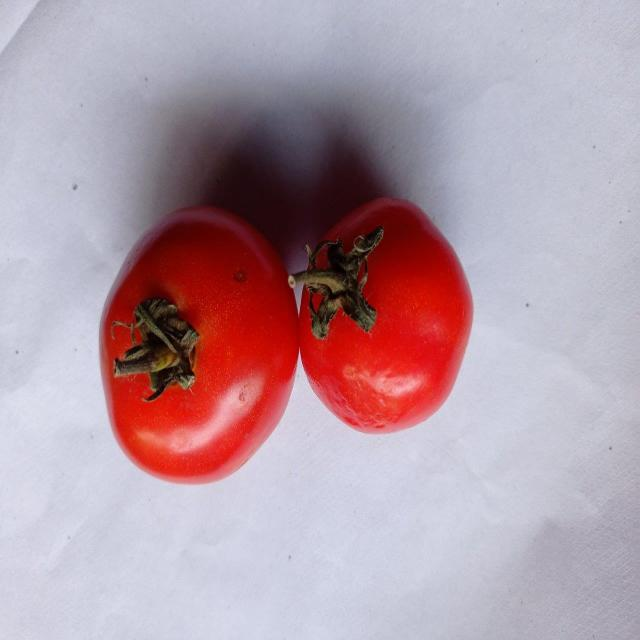Ripe: (96, 204, 298, 490), (297, 192, 475, 436)
